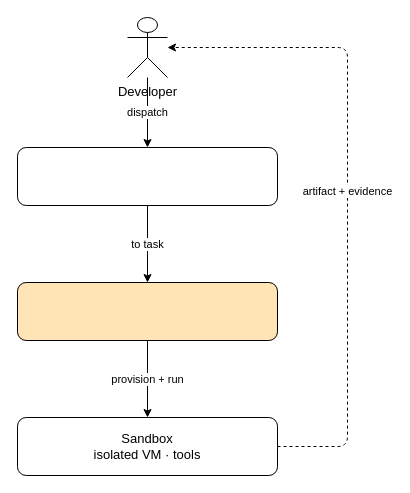
This 410x493 diagram has some shape labels left out. Each missing label, with the centre of its shape:
Control plane owner · state · evidence: (147,311)
Surface Slack · Discord · tools · chat systems: (147,176)
